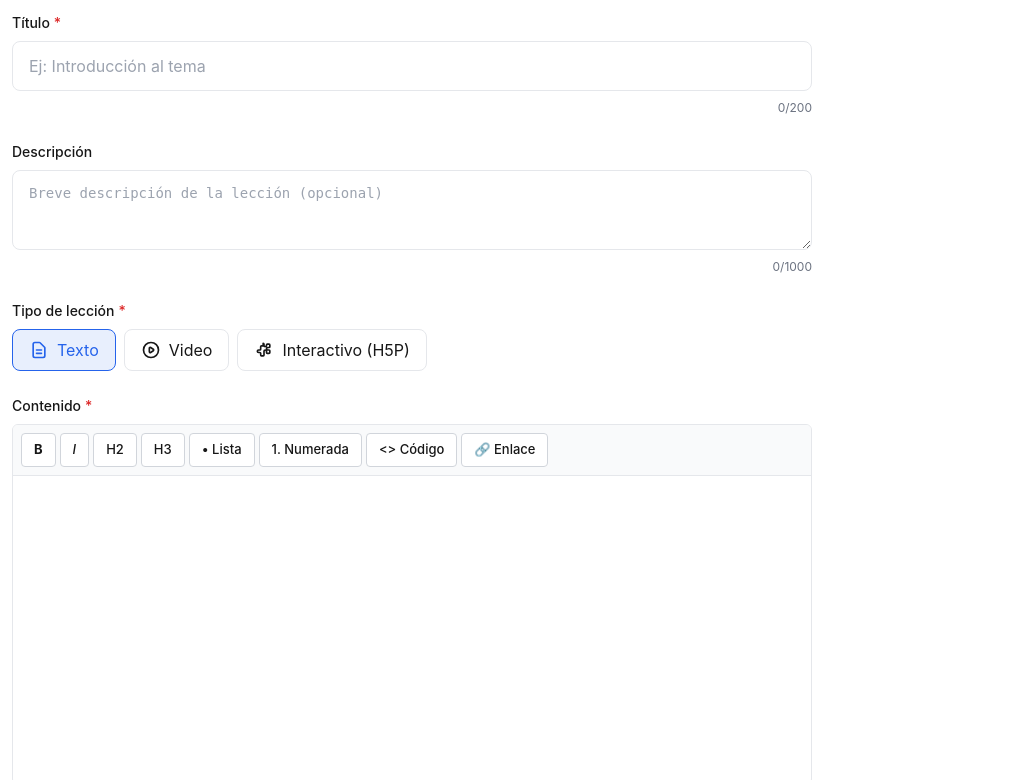
Test: LeccionForm › debería mostrar la opción de subir archivo para tipo VIDEO
What coordinates should you click on to do the following:
click the button "Video"
I would click on:
 (177, 350)
Its box is [124,329,229,371].
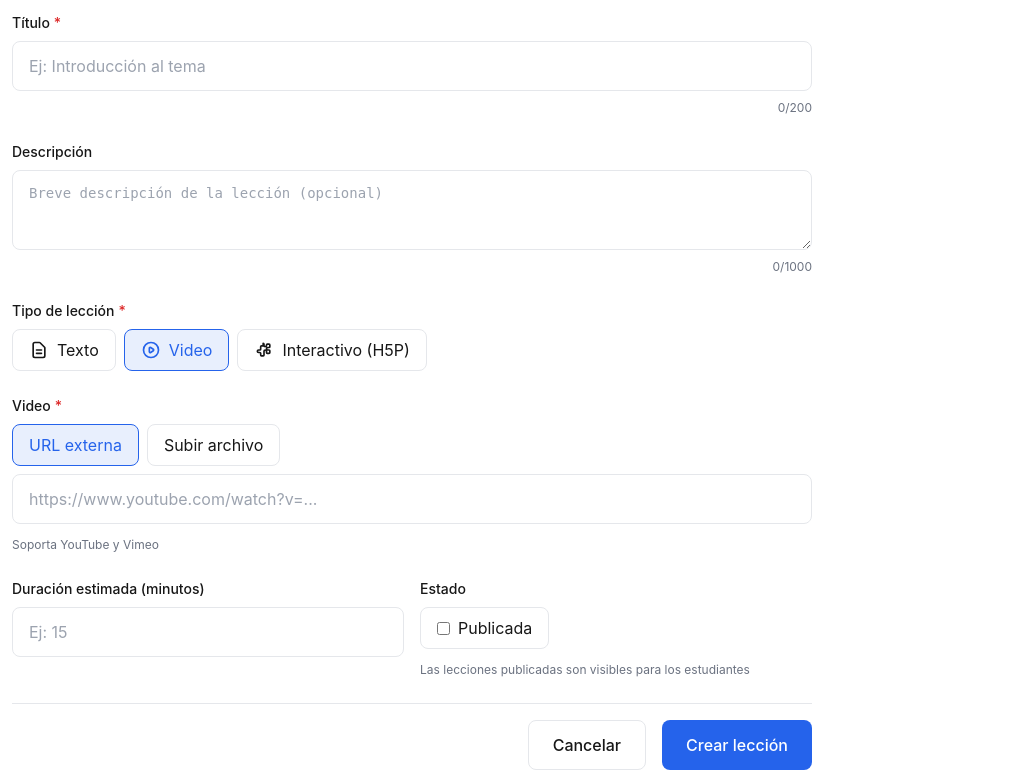
Expected: the button "Subir archivo" is shown, [147,424,280,466]
